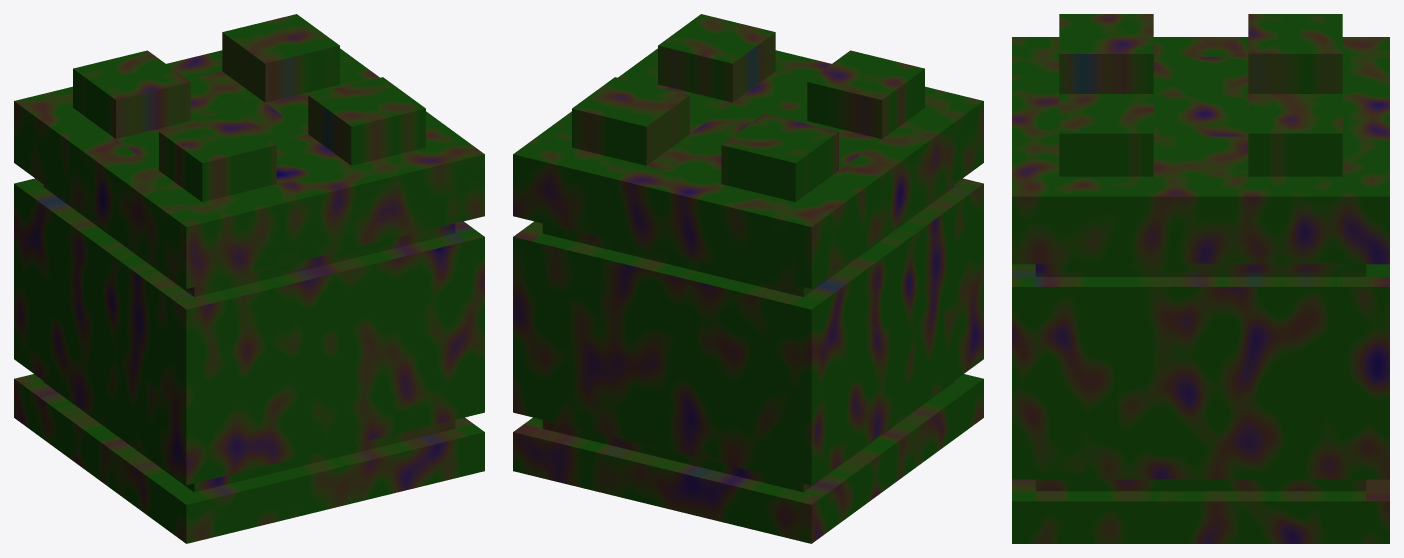
Rendered from PuzzleBlockDestructible.fbx.
3 views of the same model, side by side, from view 1: azimuth 30°, elevation 25°; view 2: azimuth 150°, elevation 25°; view 3: azimuth 270°, elevation 25° (orthographic). The views are drawn at different scales.
Visible parts, largest first — view 1: Cube.002; view 2: Cube.002; view 3: Cube.002.
Part boxes in pixels (x1,y1,x2,y2): Cube.002: (14,14,484,543); Cube.002: (513,14,983,543); Cube.002: (1012,14,1389,543).
Size of the model in its own units: 1 by 1.14 by 1.
